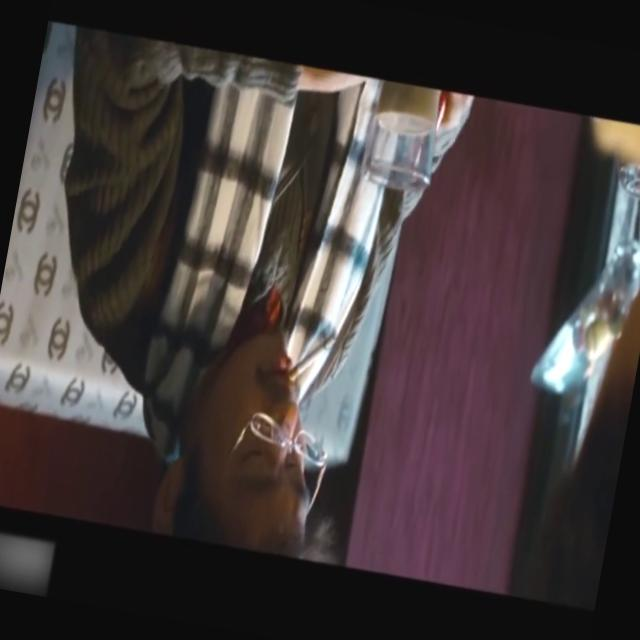smoke: (282, 316, 348, 394)
